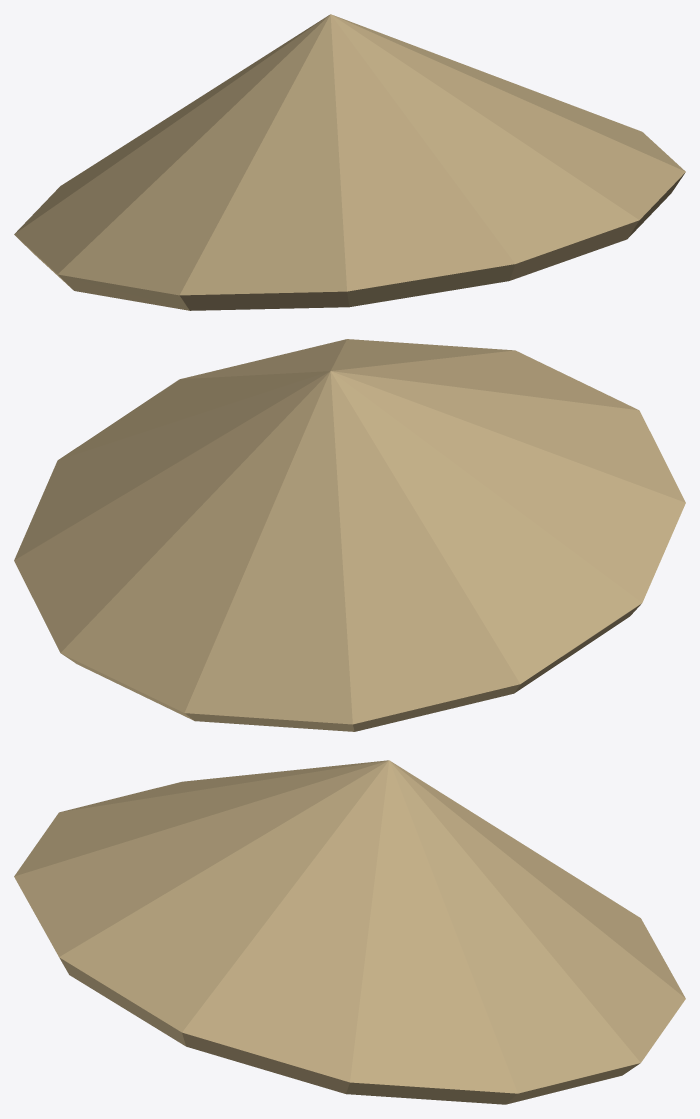
Rendered from hat.FBX.
3 views of the same model, one above another, from view 1: azimuth 30°, elevation 25°; view 2: azimuth 150°, elevation 25°; view 3: azimuth 270°, elevation 25° (orthographic).
Parts seen in each view (by area): view 1: Object001; view 2: Object001; view 3: Object001.
Boxes of the visible parts, left/top/right/bottom form: Object001: left=14, top=14, right=685, bottom=310; Object001: left=14, top=339, right=685, bottom=731; Object001: left=14, top=760, right=685, bottom=1104.
Bounding box in the file's own units: 0.7088 × 0.2902 × 0.695.
